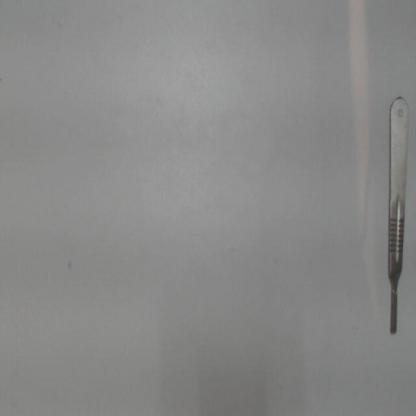No.4 BP Handle: (382, 93, 414, 343)
